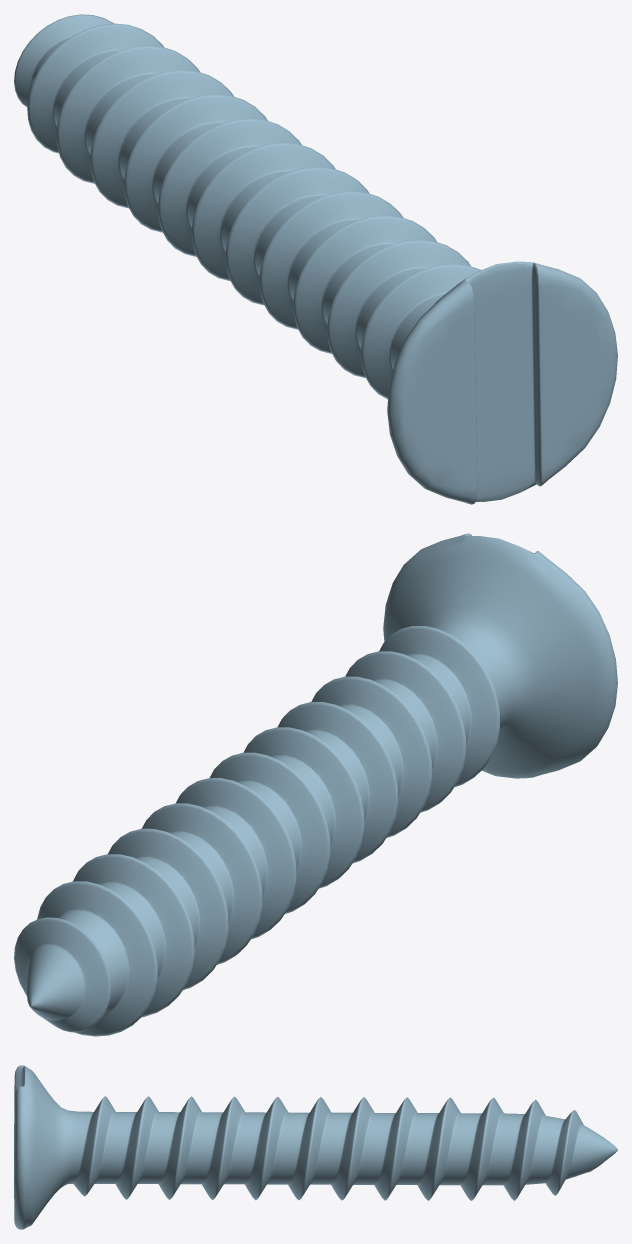
Rendered from Screw.glb.
The picture shows the model from 3 angles, top to bottom: view 1: azimuth 30°, elevation 25°; view 2: azimuth 150°, elevation 25°; view 3: azimuth 270°, elevation 25°; orthographic projection. The views are drawn at different scales.
Parts seen in each view (by area): view 1: pCylinder12; view 2: pCylinder12; view 3: pCylinder12.
Boxes of the visible parts, <box> form: pCylinder12: <box>14,14,617,504</box>; pCylinder12: <box>14,533,617,1036</box>; pCylinder12: <box>14,1065,617,1229</box>.
Size of the model in its own units: 0.6388 by 0.6304 by 2.28.
